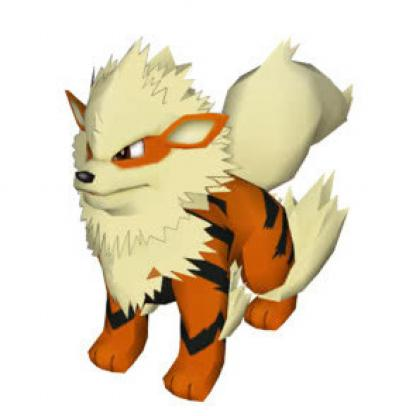Arcanine: (58, 41, 350, 405)
